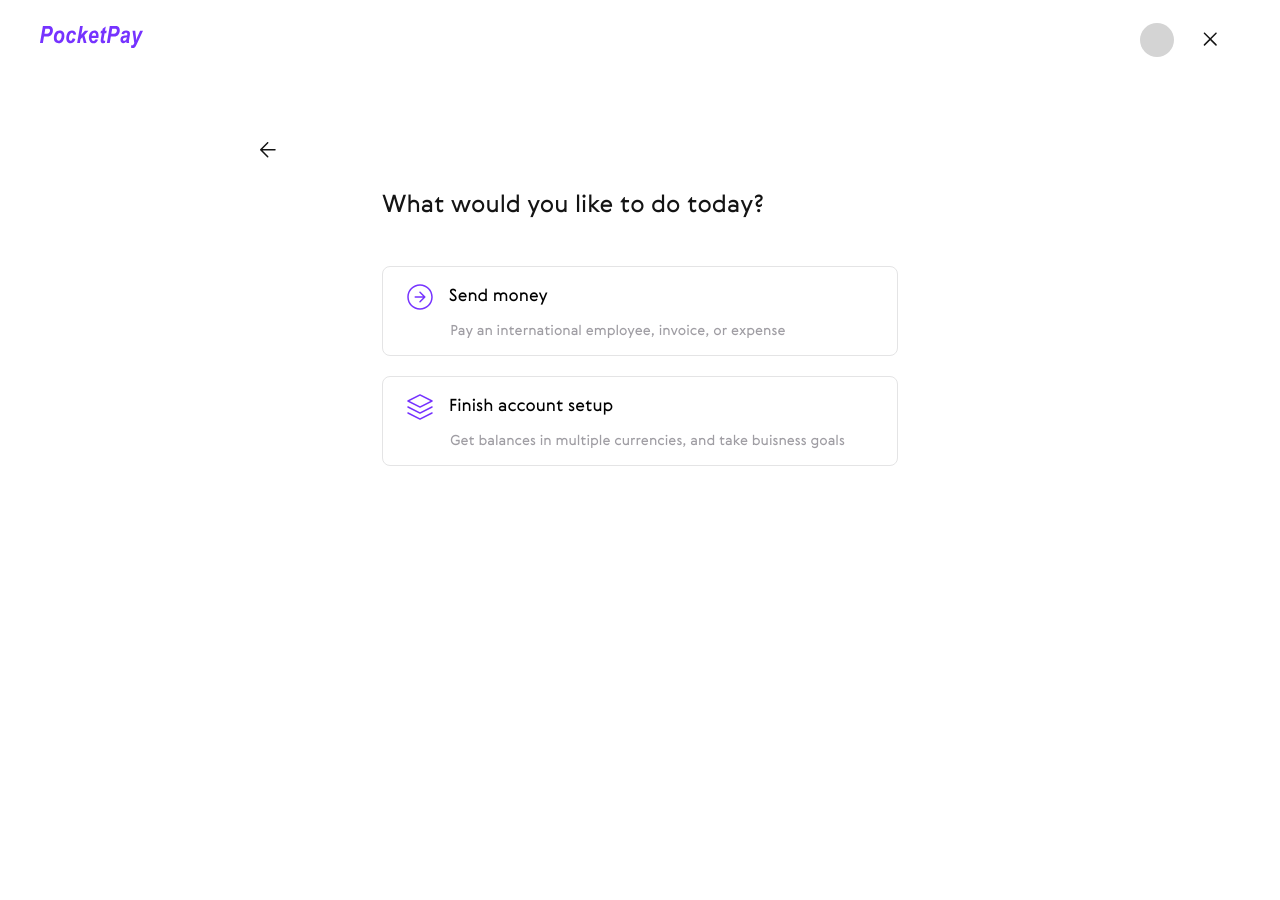
Test: Testing whole flow of the page › OnClicking Send Money option it navigates to currency Exchange
Step 1. Click the text "Send money" → click(498, 297), box [449, 285, 548, 309]
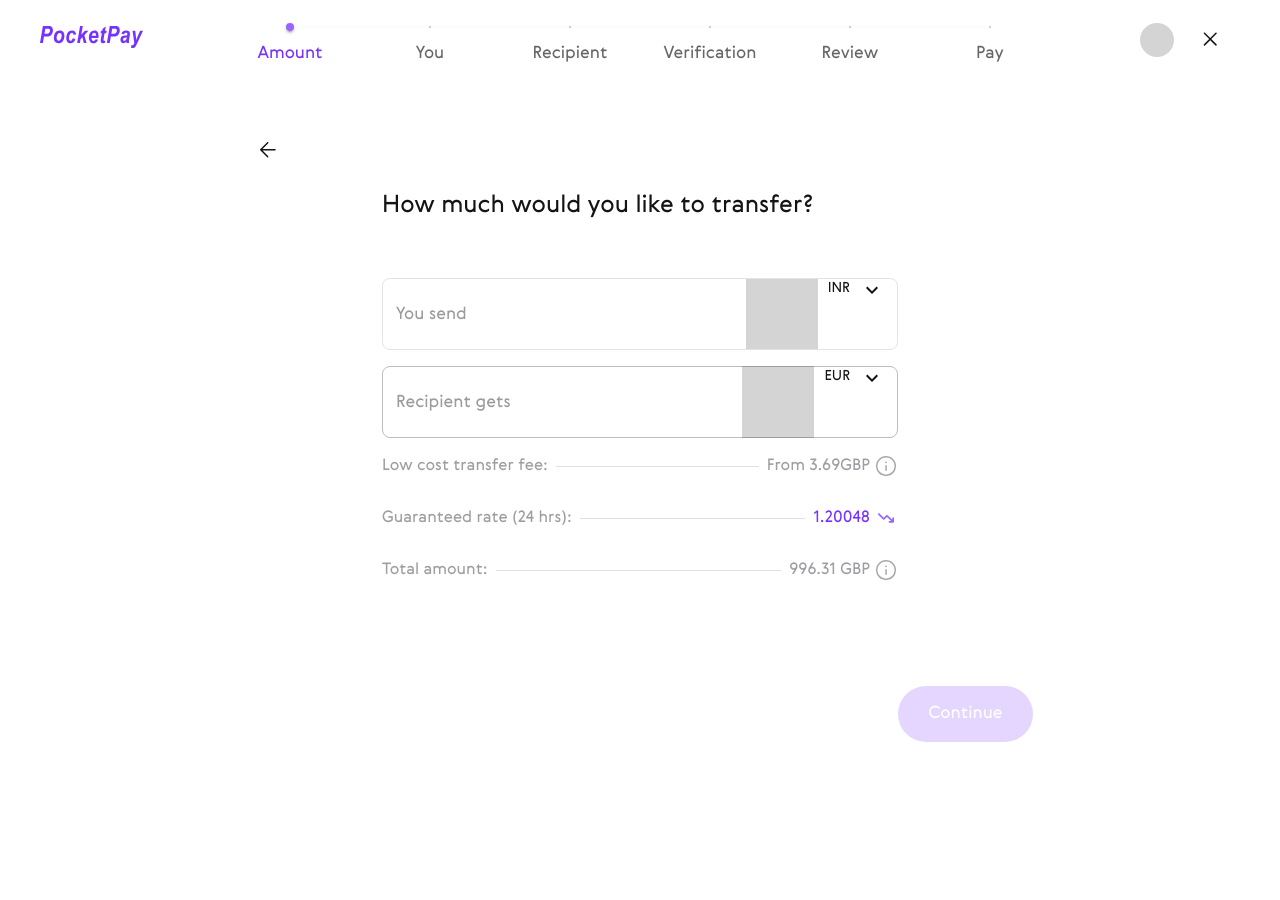
expect the element with test id "currencyExchange" is shown: met, box [382, 186, 1033, 742]
